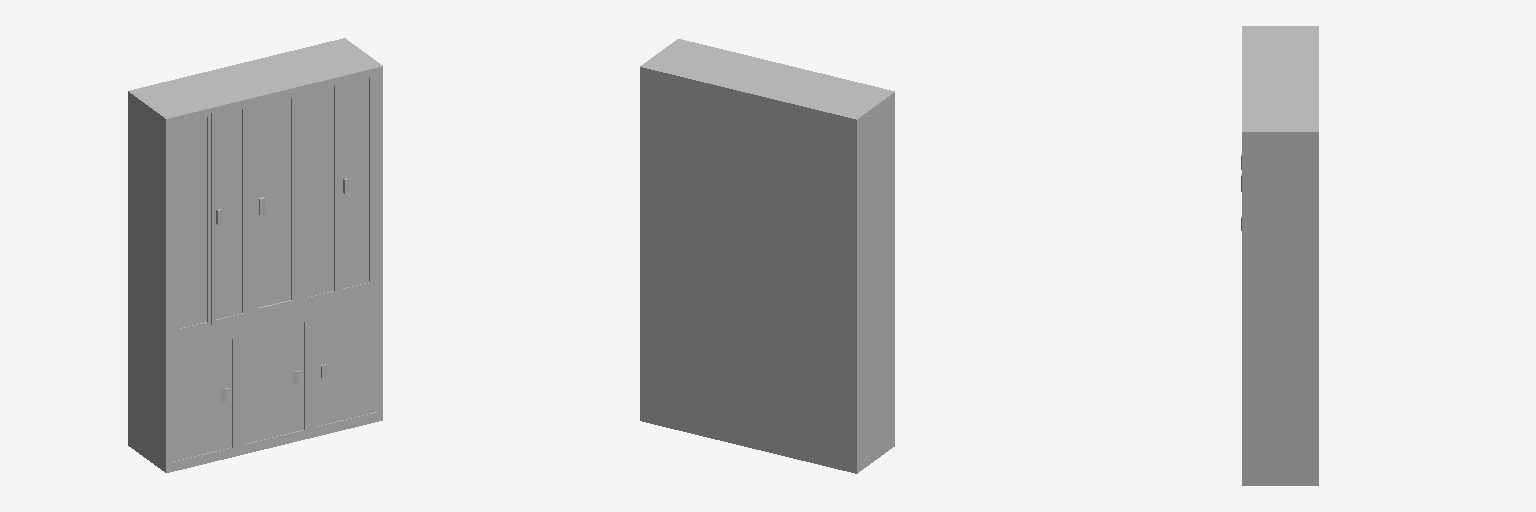
File: Low_Poly_Bookcase.obj
The picture shows the model from 3 angles: view 1: azimuth 30°, elevation 25°; view 2: azimuth 150°, elevation 25°; view 3: azimuth 270°, elevation 25°; orthographic projection.
Parts seen in each view (by area): view 1: Bookcase_Base Low_Poly_Bookcase, Low_Poly_Bookcase Top_Middle_Door, Low_Poly_Bookcase Bottom_Middle_Door, Low_Poly_Bookcase Bottom_Left_Door, Low_Poly_Bookcase Bottom_Right_Door, Low_Poly_Bookcase Top_Left_Door_L, Low_Poly_Bookcase Top_Right_Door_L, Low_Poly_Bookcase Top_Right_Door_R, Low_Poly_Bookcase Top_Left_Door_R; view 2: Bookcase_Base Low_Poly_Bookcase; view 3: Bookcase_Base Low_Poly_Bookcase.
Part boxes in pixels (left/top/right/bottom): Bookcase_Base Low_Poly_Bookcase: left=128, top=38, right=382, bottom=472; Low_Poly_Bookcase Top_Middle_Door: left=253, top=92, right=296, bottom=313; Low_Poly_Bookcase Bottom_Middle_Door: left=241, top=318, right=307, bottom=448; Low_Poly_Bookcase Bottom_Left_Door: left=169, top=335, right=235, bottom=465; Low_Poly_Bookcase Bottom_Right_Door: left=314, top=300, right=380, bottom=430; Low_Poly_Bookcase Top_Left_Door_L: left=176, top=113, right=210, bottom=332; Low_Poly_Bookcase Top_Right_Door_L: left=303, top=82, right=337, bottom=301; Low_Poly_Bookcase Top_Right_Door_R: left=338, top=74, right=372, bottom=293; Low_Poly_Bookcase Top_Left_Door_R: left=211, top=105, right=245, bottom=324; Bookcase_Base Low_Poly_Bookcase: left=640, top=39, right=894, bottom=473; Bookcase_Base Low_Poly_Bookcase: left=1242, top=26, right=1318, bottom=485.
Bounding box in the file's own units: 14.83 × 23.12 × 4.65.